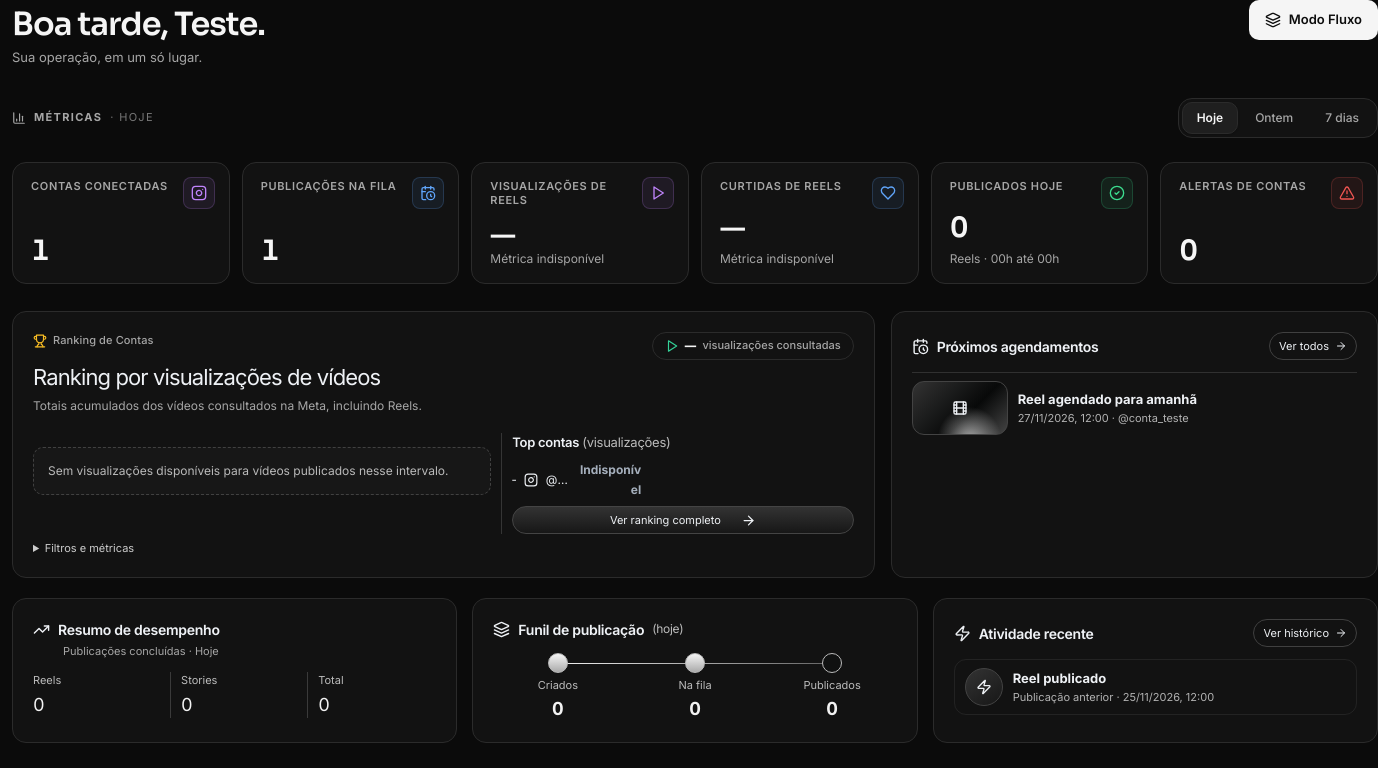
Scenario: Avança — controles dos fluxos existentes › exibe a fila real e altera o resumo de publicações ao selecionar o período
The width and height of the screenshot is (1378, 768).
Expected: the text "Reel agendado para amanhã" is shown, [1018,390,1197,410]
Expected: the text "Publicações concluídas · Hoje" is shown, [63,644,219,658]
Click the tab "Ontem": (1274, 118) [1240,102,1308,134]
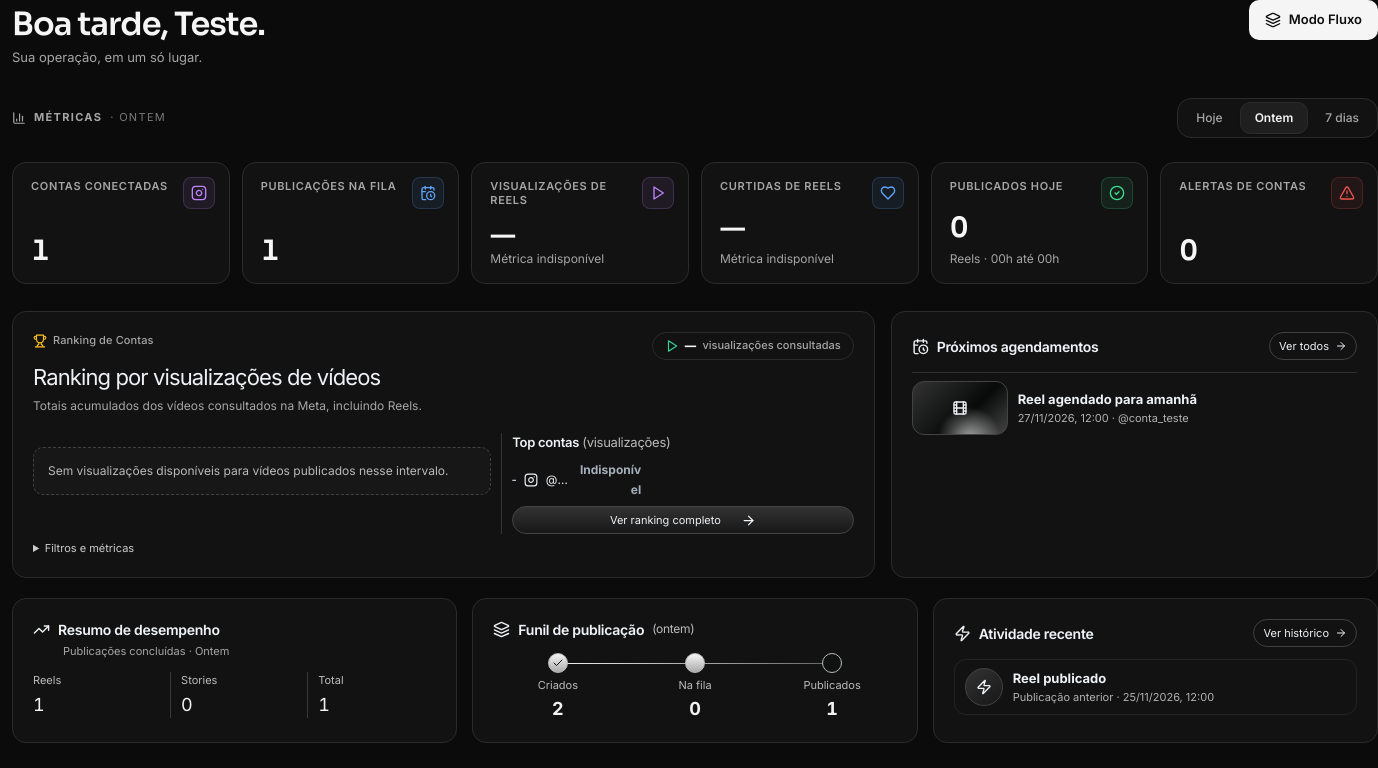
Expected: the text "1" is shown 2 times, [33,694,45,715]; [318,694,330,715]
Expected: the text "Publicações concluídas · Ontem" is shown, [63,644,229,658]
